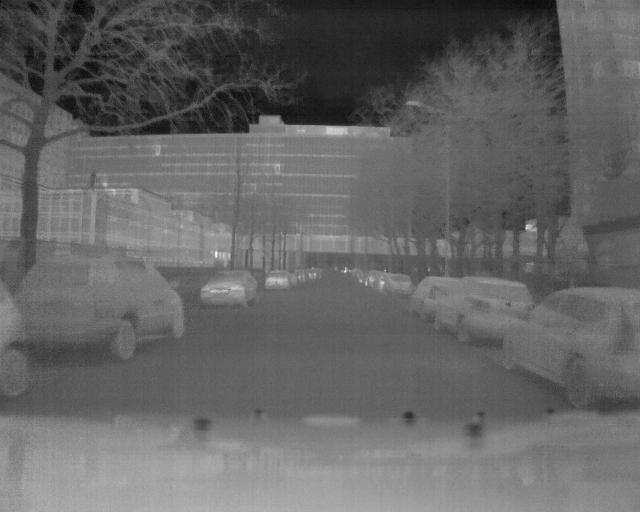car: (12, 253, 187, 357), (500, 286, 640, 408), (434, 274, 538, 347), (200, 267, 261, 308), (407, 277, 441, 317), (379, 272, 412, 295), (263, 269, 298, 289)
